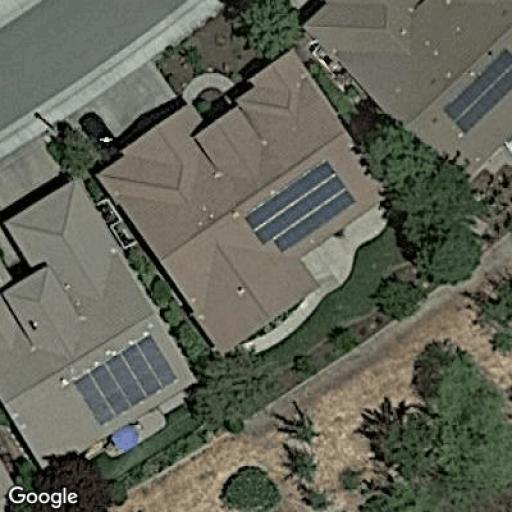solar-panel: (242, 158, 357, 255), (70, 333, 180, 428), (442, 48, 512, 136)
